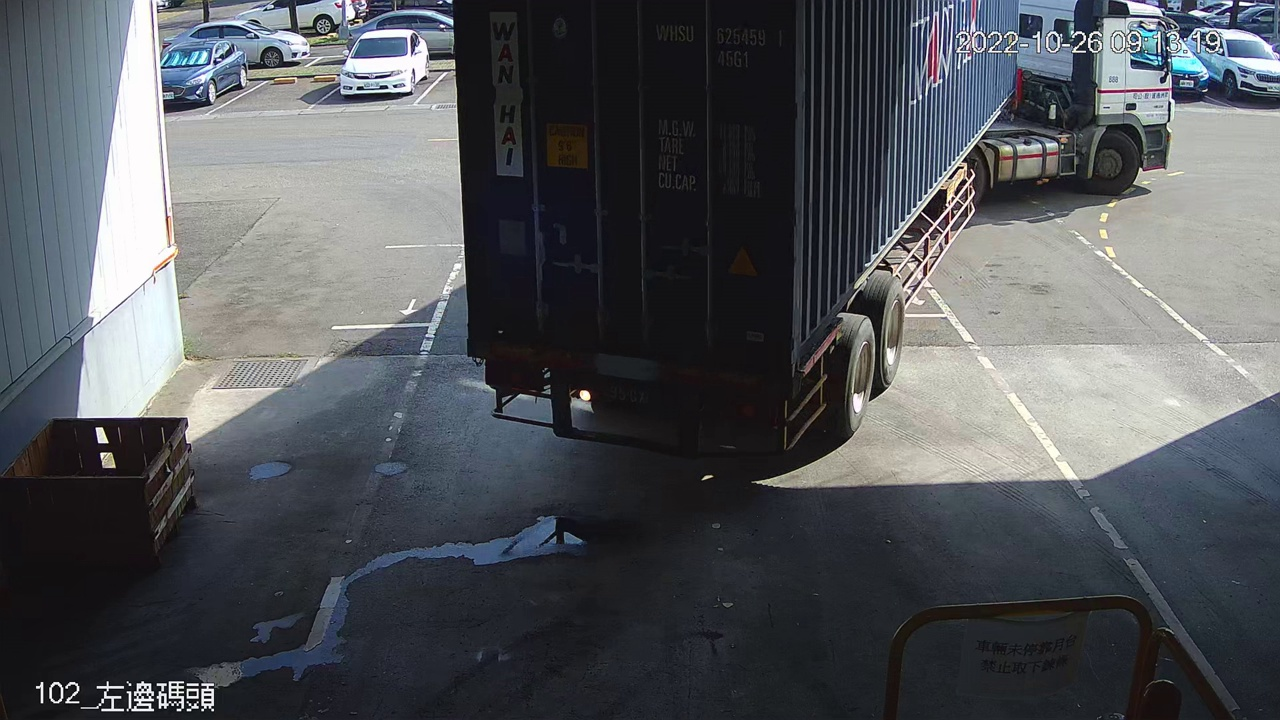container: (648, 13, 790, 76)
